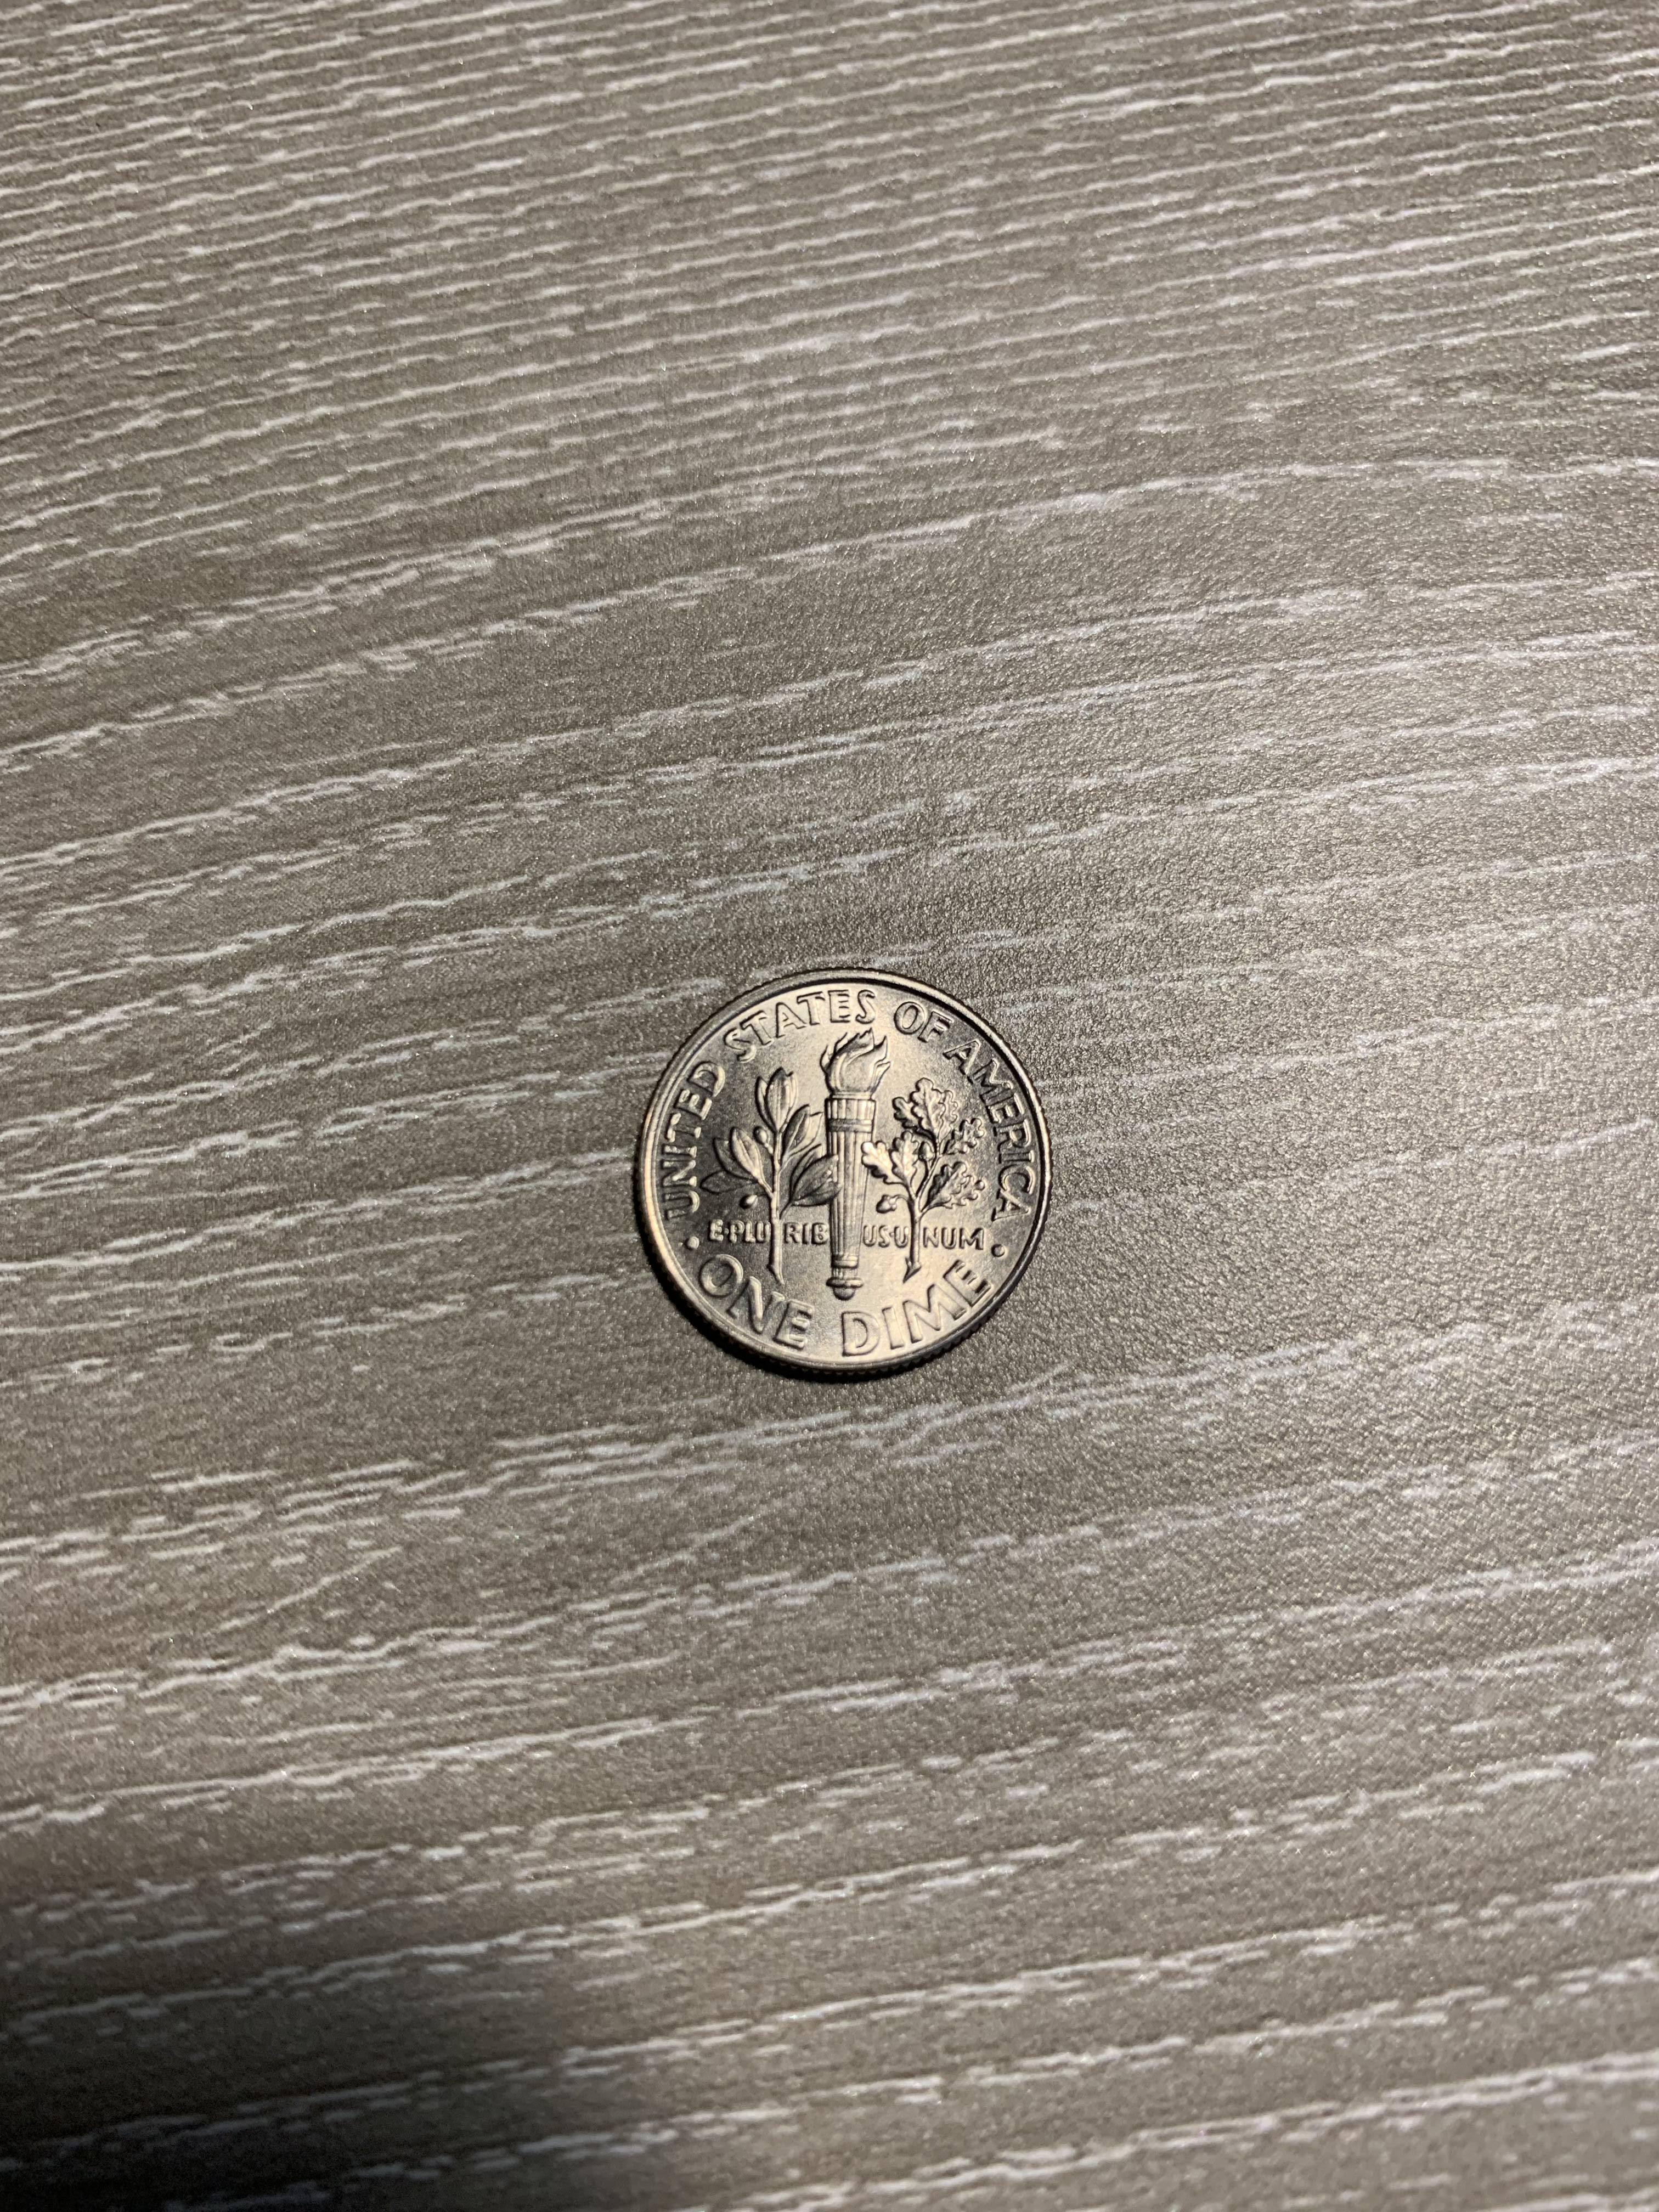Dime: (622, 956, 1063, 1390)
